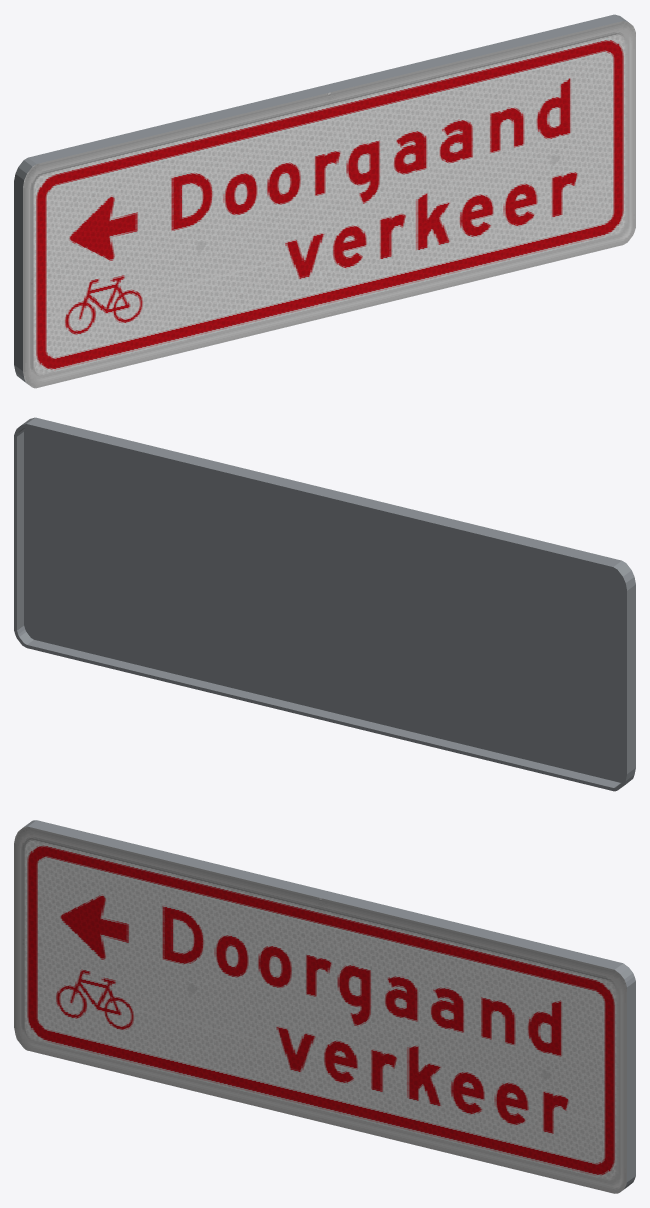
The picture shows the model from 3 angles, top to bottom: view 1: azimuth 30°, elevation 25°; view 2: azimuth 150°, elevation 25°; view 3: azimuth 330°, elevation 25°; orthographic projection.
Parts seen in each view (by area): view 1: cat_e07f4aa2da287125; view 2: cat_e07f4aa2da287125; view 3: cat_e07f4aa2da287125.
Boxes of the visible parts, left/top/right/bottom form: cat_e07f4aa2da287125: left=14, top=14, right=635, bottom=388; cat_e07f4aa2da287125: left=14, top=417, right=635, bottom=791; cat_e07f4aa2da287125: left=14, top=820, right=635, bottom=1193.
Size of the model in its own units: 0.6 by 0.015 by 0.2095.
2 materials, 1 textured.
